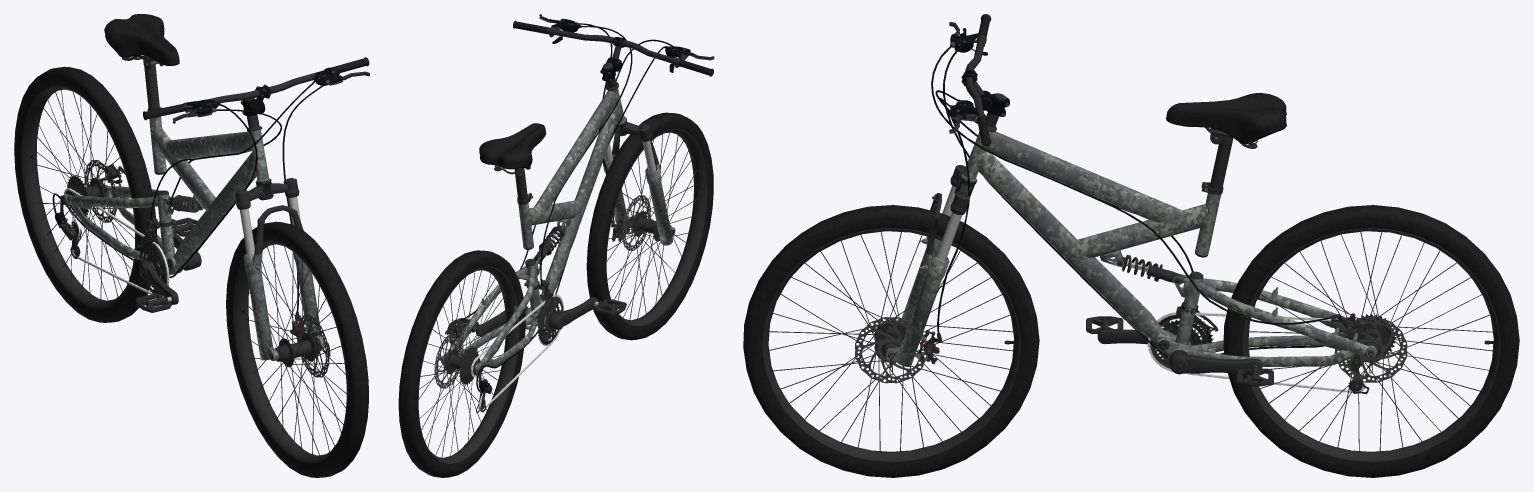
Rendered from Bike.fbx.
3 views of the same model, side by side, from view 1: azimuth 30°, elevation 25°; view 2: azimuth 150°, elevation 25°; view 3: azimuth 270°, elevation 25° (orthographic). The views are drawn at different scales.
Parts seen in each view (by area): view 1: Wheels, Bike_Frame, Suspension, Bike.068, Brake_Lever, Traction, Handlebar, Brakes, Gearshift, Chain; view 2: Wheels, Bike_Frame, Suspension, Traction, Bike.068, Brake_Lever, Handlebar, Brakes, Gearshift, Chain; view 3: Wheels, Bike_Frame, Suspension, Bike.068, Traction, Brake_Lever, Brakes, Handlebar, Chain.
Boxes of the visible parts, x1,y1,x2,y2 form: Wheels: (14,66,368,477); Bike_Frame: (63,116,269,275); Suspension: (166,98,325,360); Bike.068: (104,14,179,110); Brake_Lever: (52,67,369,312); Traction: (65,174,201,312); Handlebar: (143,57,369,120); Brakes: (84,160,329,377); Gearshift: (55,195,175,258); Chain: (64,188,169,296); Wheels: (398,112,713,477); Bike_Frame: (441,82,625,372); Suspension: (535,62,675,261); Traction: (447,296,626,385); Bike.068: (479,123,546,205); Brake_Lever: (461,14,714,391); Handlebar: (513,20,713,81); Brakes: (434,195,650,388); Gearshift: (476,279,553,413); Chain: (471,294,564,411); Wheels: (743,205,1519,477); Bike_Frame: (961,126,1377,366); Suspension: (885,93,1181,366); Bike.068: (1166,92,1286,194); Traction: (1086,314,1396,386); Brake_Lever: (931,22,1330,358); Brakes: (855,313,1407,383); Handlebar: (961,14,1009,146); Chain: (1148,312,1364,393).
Size of the model in its own units: 67.22 by 103 by 179.
